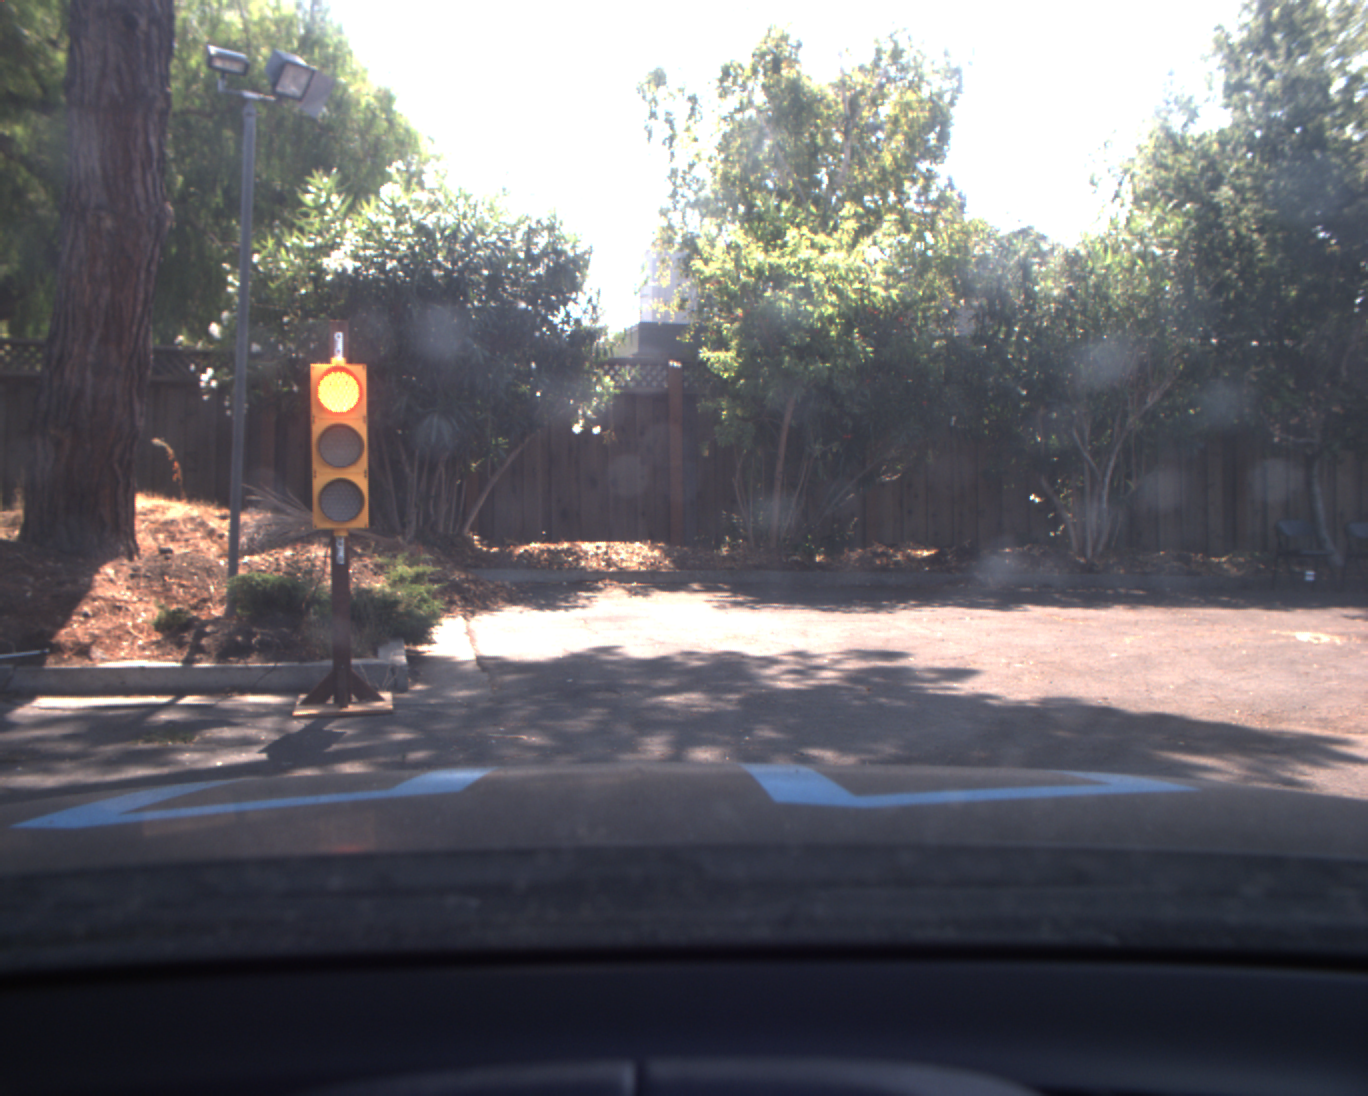red: (306, 360, 372, 530)
